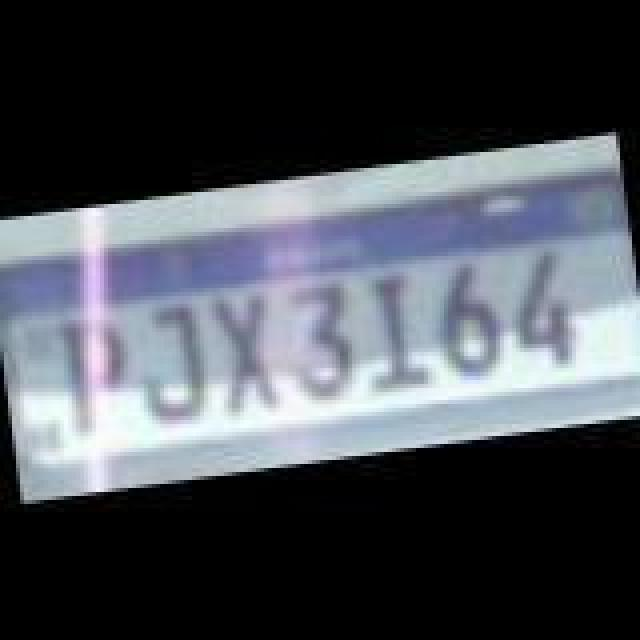3: (284, 278, 364, 410)
4: (500, 242, 588, 366)
6: (428, 256, 516, 384)
I: (350, 262, 434, 394)
J: (134, 300, 218, 428)
P: (64, 312, 144, 440)
X: (204, 286, 284, 418)
